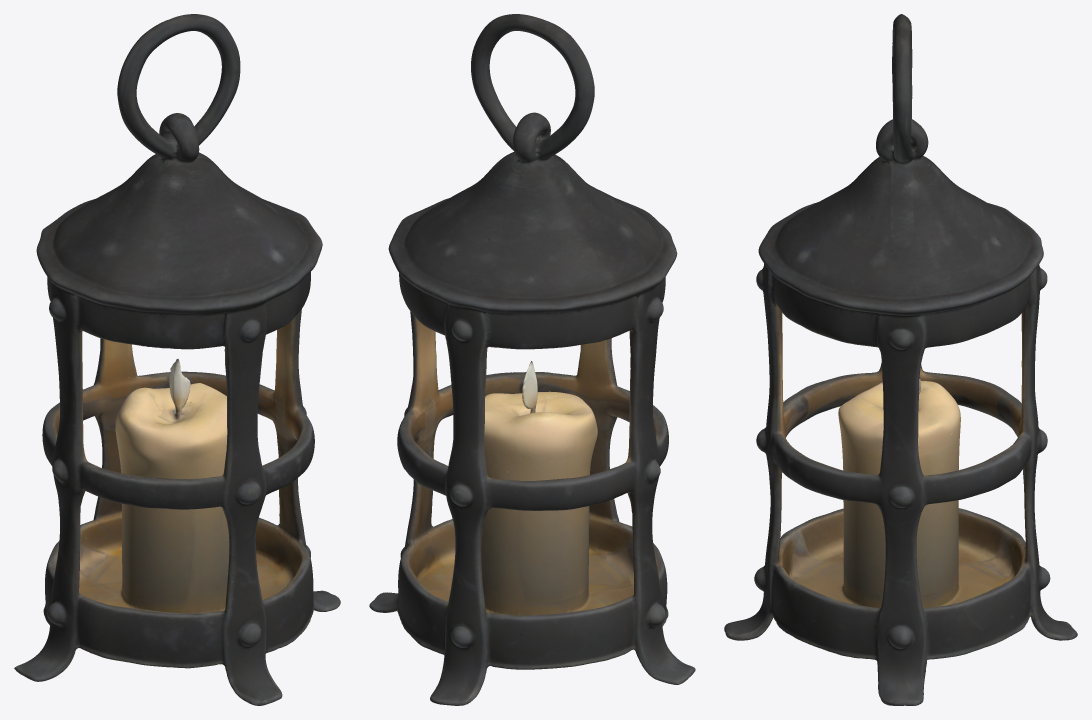
File: Candil.glb
The picture shows the model from 3 angles, left to right: view 1: azimuth 30°, elevation 25°; view 2: azimuth 150°, elevation 25°; view 3: azimuth 270°, elevation 25°; orthographic projection. The views are drawn at different scales.
Bounding box in the file's own units: 1.05 × 2 × 1.05.
1 material, 1 textured.
